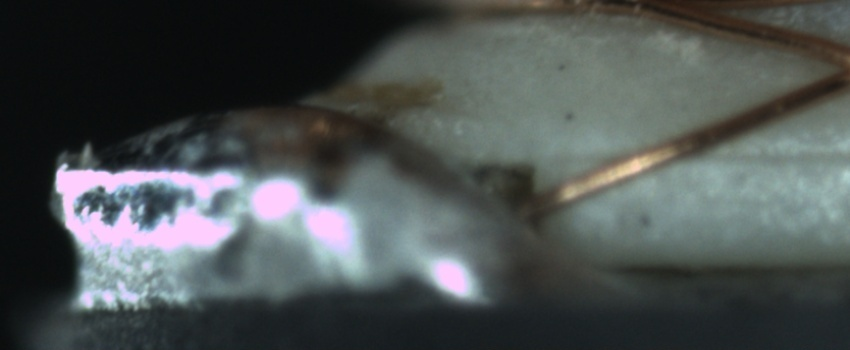DL: (613, 123, 850, 188)
